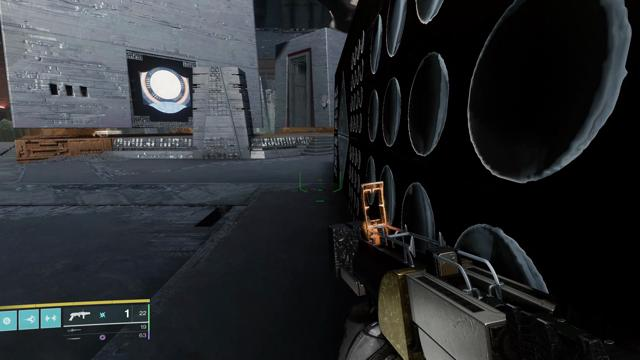traveler: (138, 67, 191, 113)
